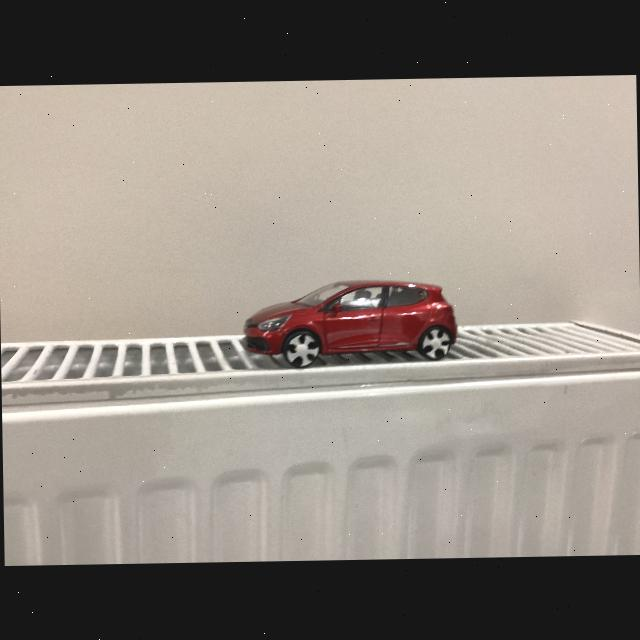Yanlis_Jant: (286, 332, 320, 367), (422, 329, 449, 356)
